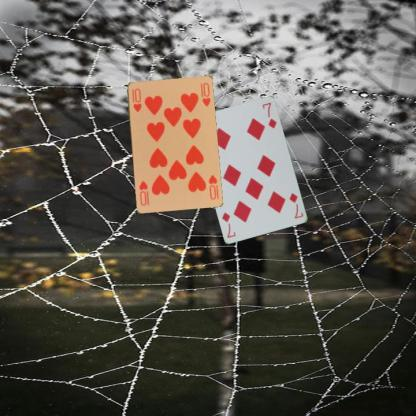10h: (129, 86, 143, 113), (206, 172, 218, 201)
7d: (286, 191, 304, 220)
